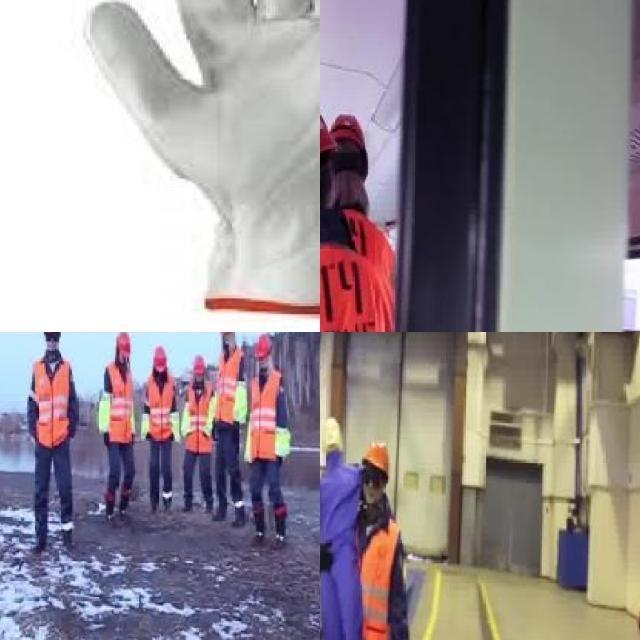apron: (80, 0, 320, 251), (320, 532, 335, 580)
